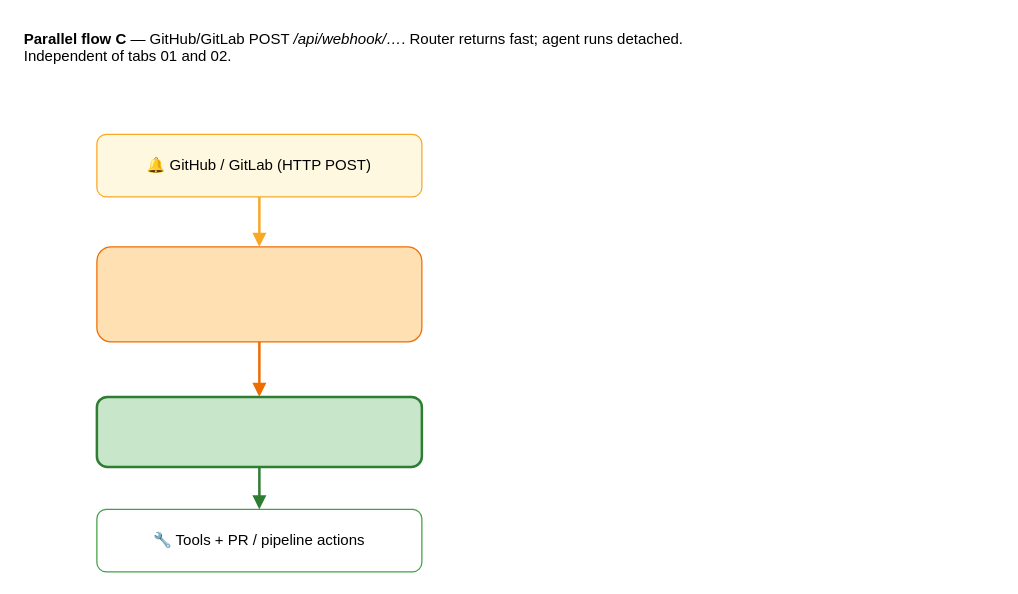
The diagram is 1018 pixels wide and 594 high, and some of its shapes have lost their labels. The shapes that lost their labels are listed below. From the top down, each one's centre as x and y in pixels, then its label:
At (259,294): "📥 webhookadapter.Router verify · semaphore · async runner".
At (258,431): "🤖 Runner".
